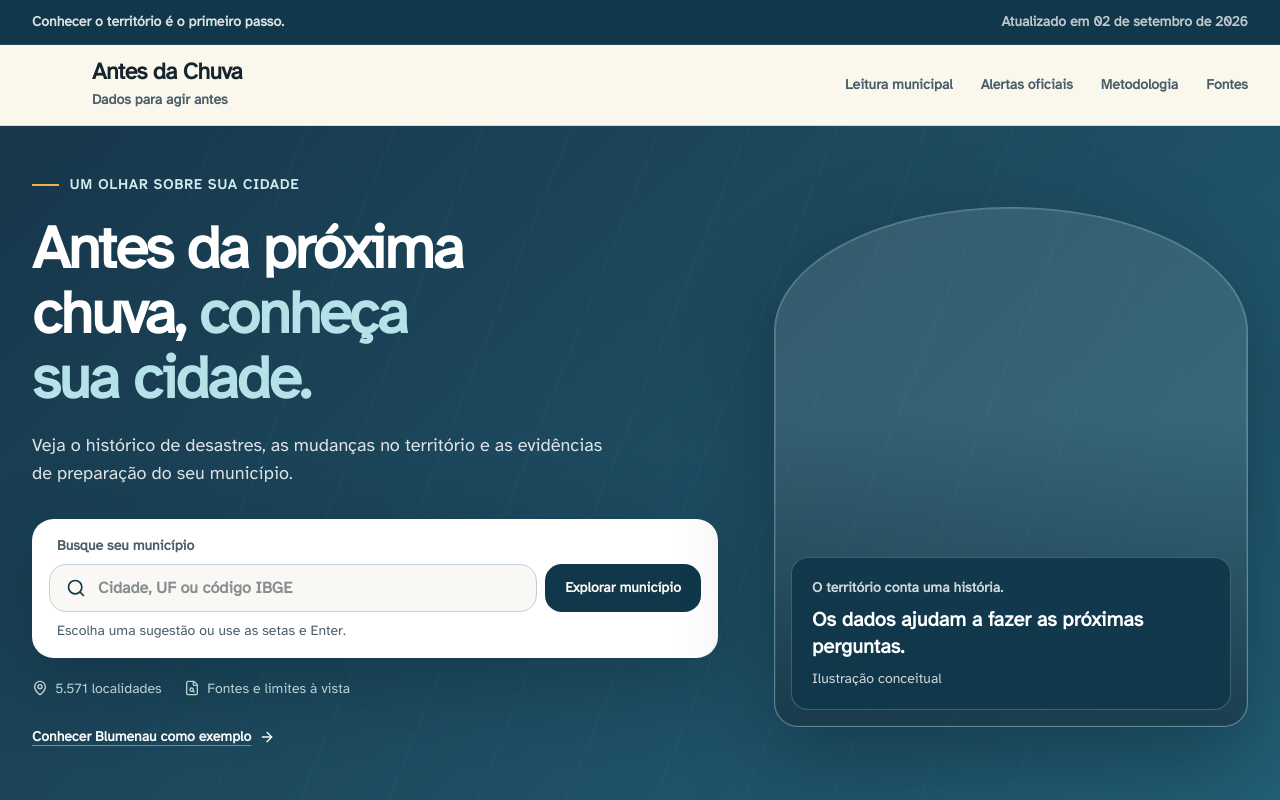
Scenario: municipal v1 loading › consults a unique typed municipality through the primary button without losing the query on refocus
This screenshot has width=1280, height=800.
Type "Blumenau" into the dropdown named "Busque por nome, UF ou código IBGE" at [309, 588], box [98,576,520,600]
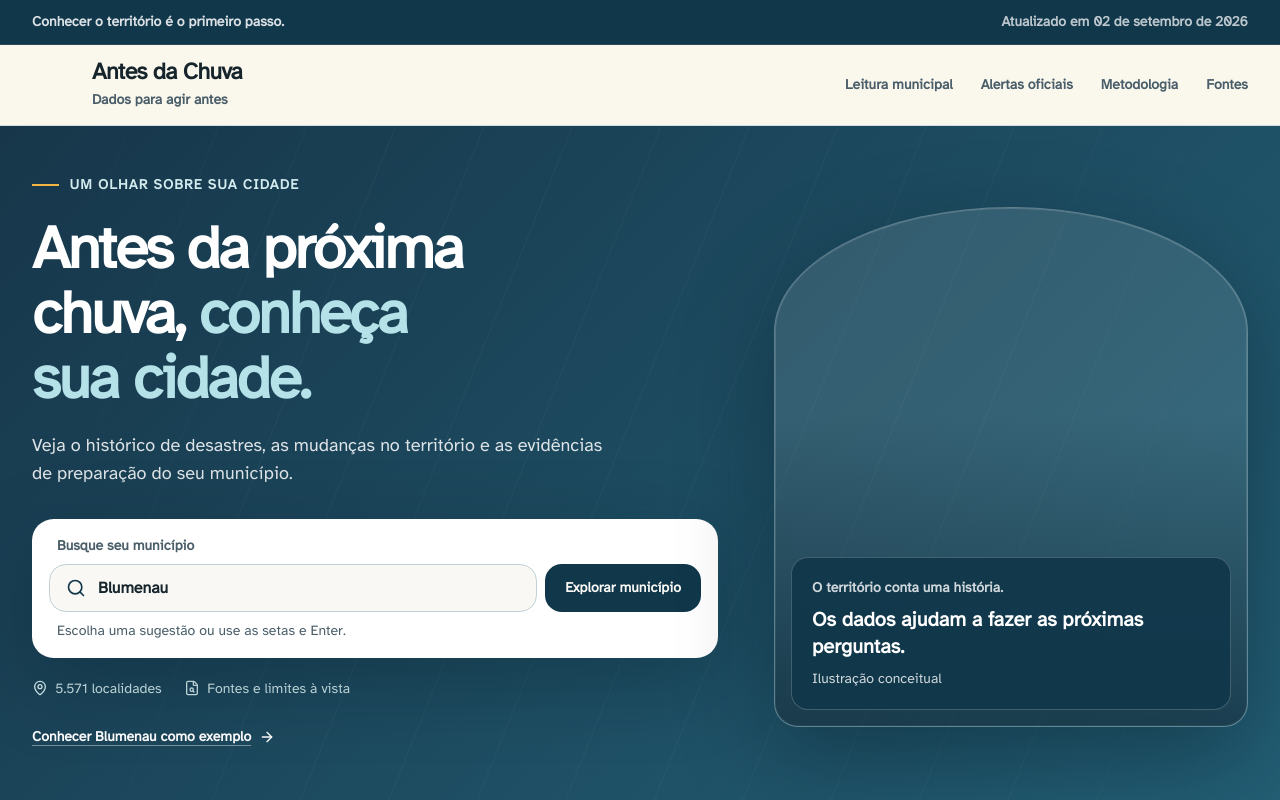
Focus the dropdown named "Busque por nome, UF ou código IBGE" at [309, 588], box [98,576,520,600]
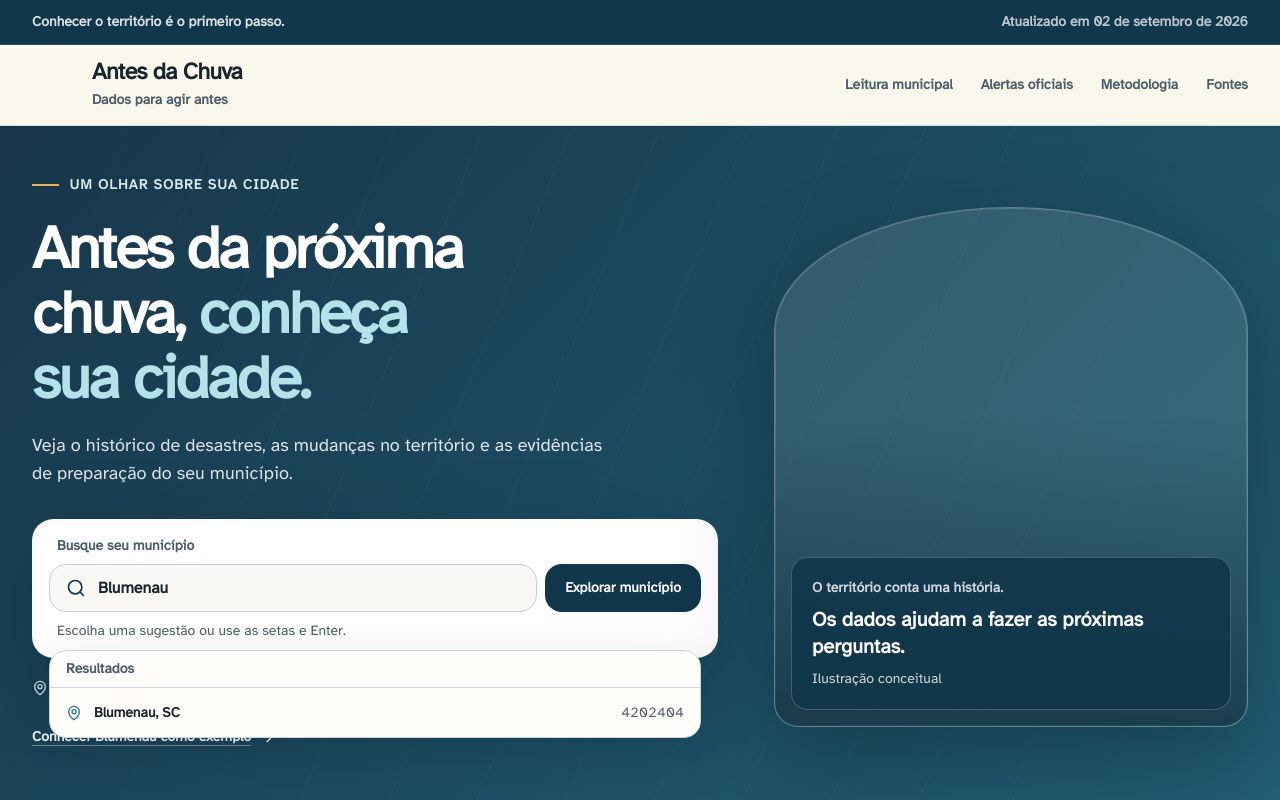
Click the button "Explorar município" at [623, 588], box [545,564,701,612]
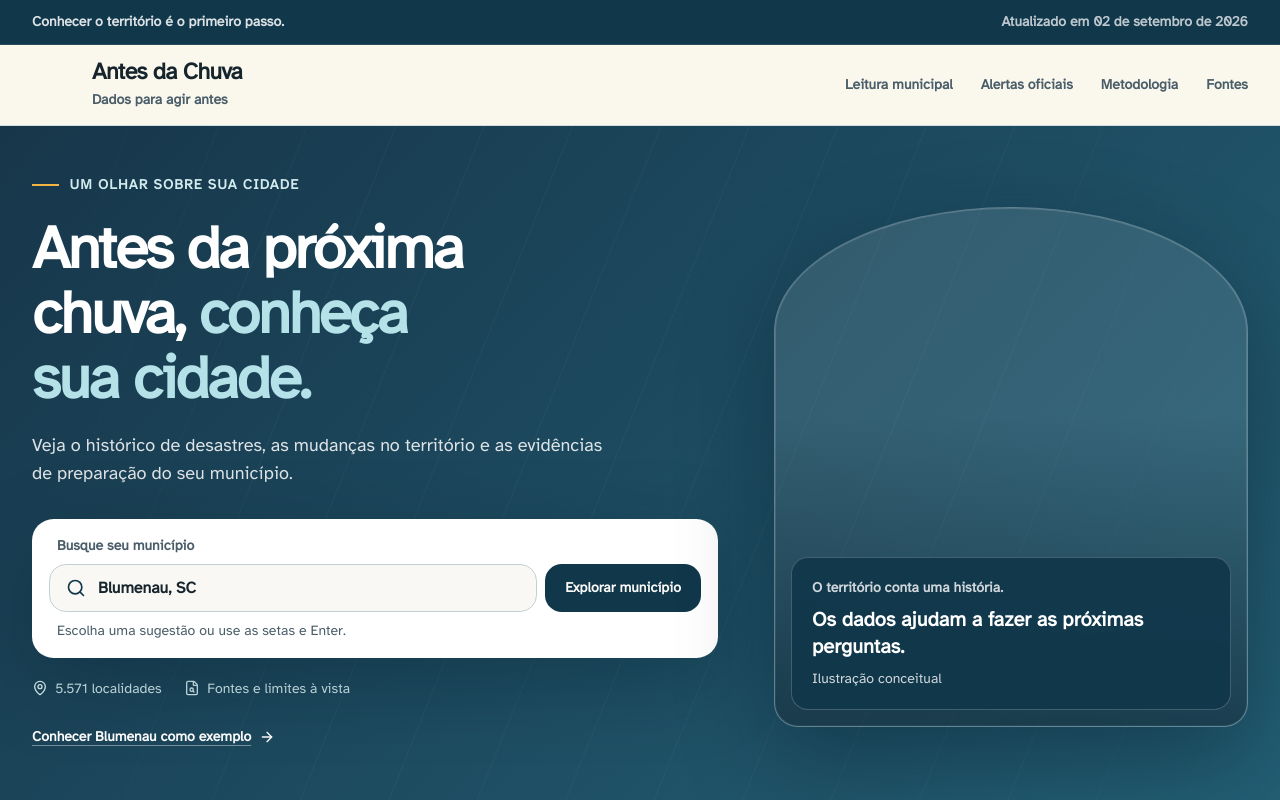
Focus the dropdown named "Busque por nome, UF ou código IBGE" at [309, 588], box [98,576,520,600]
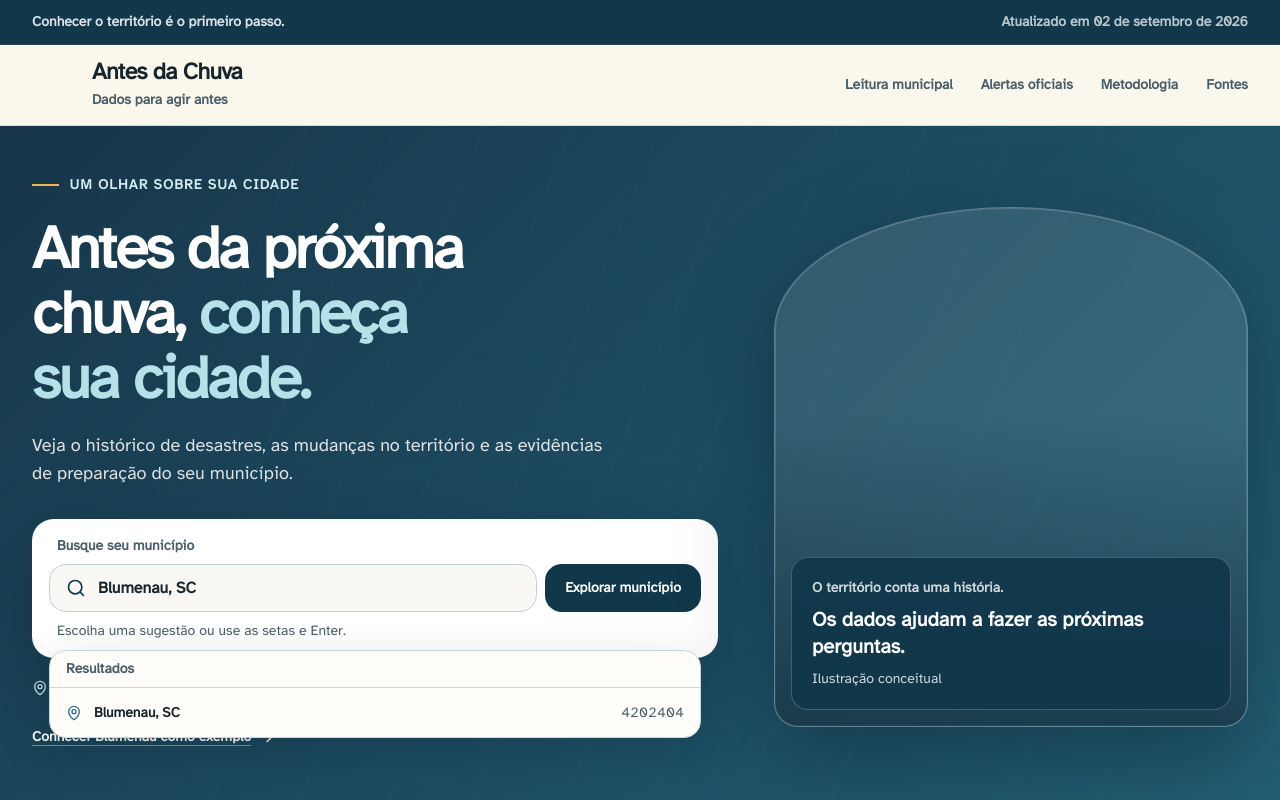
Expected: the option "Blumenau, SC 4202404" is shown, [54,692,696,733]
